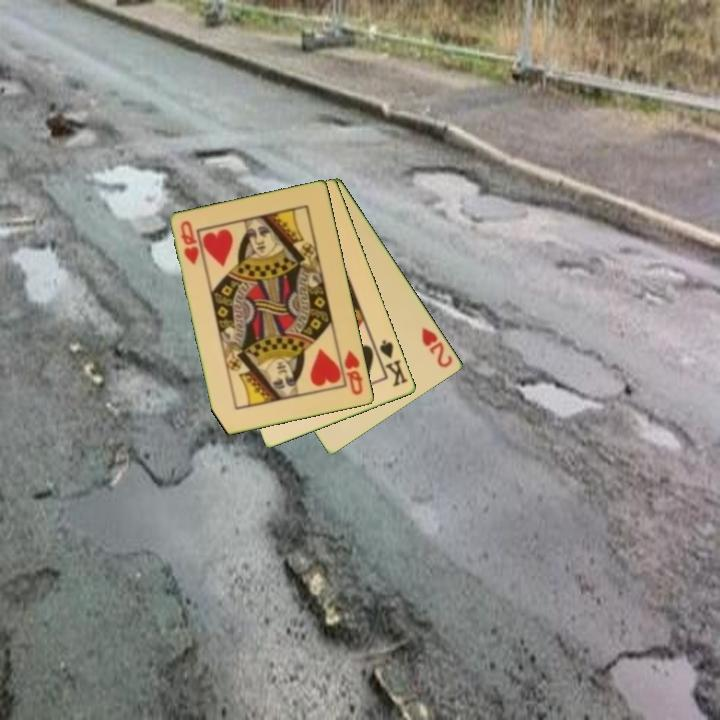2h: (418, 324, 456, 371)
Ks: (371, 336, 412, 389)
Qh: (341, 347, 366, 398), (177, 217, 202, 268)
